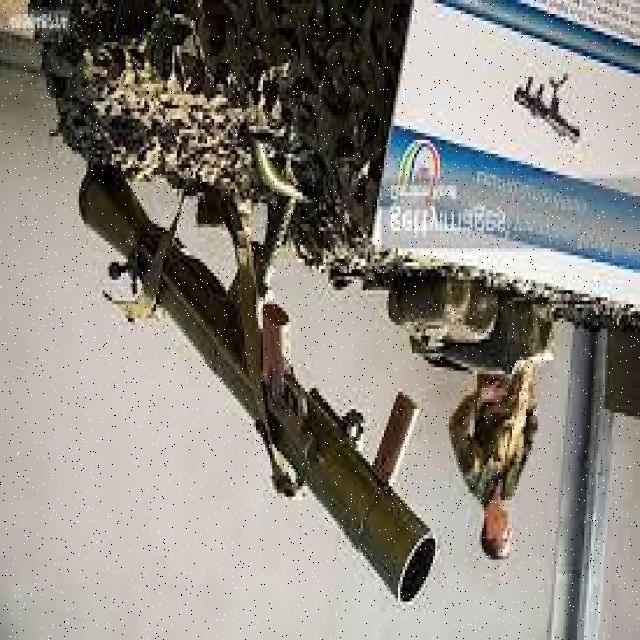bazooka: (69, 138, 445, 607)
